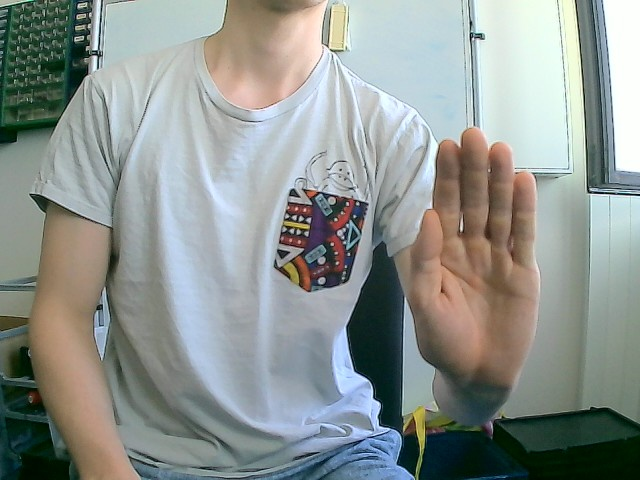stop: (401, 126, 542, 389)
